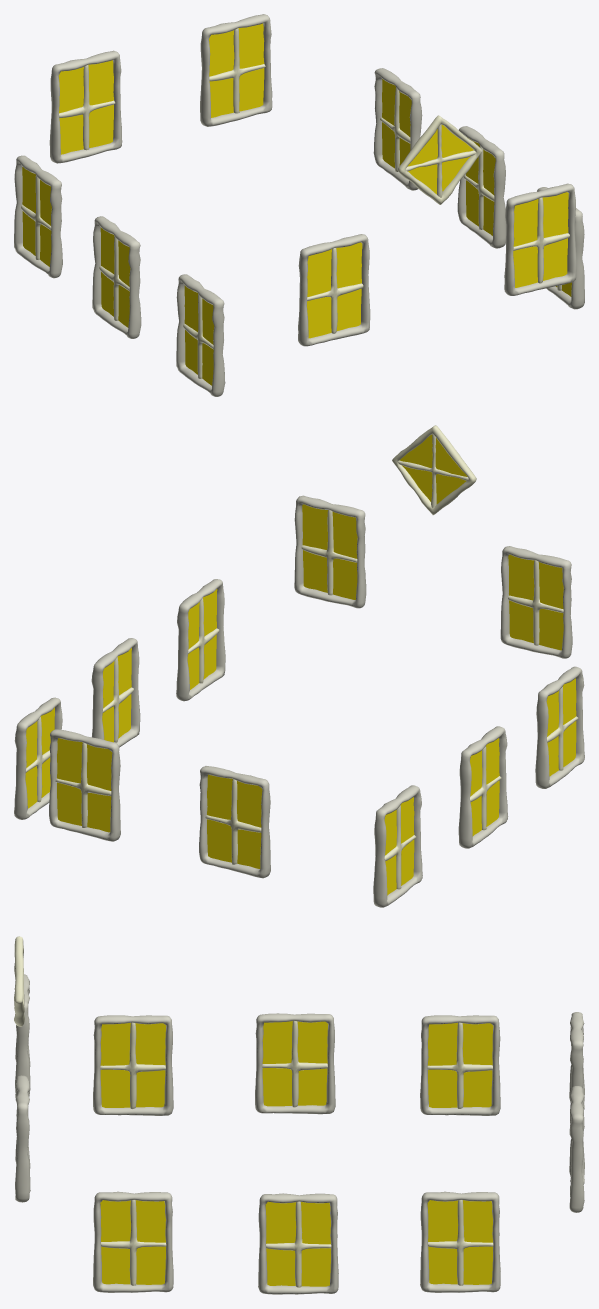
The model's file is Square_Windows.glb.
3 renders of one model, top to bottom at view 1: azimuth 30°, elevation 25°; view 2: azimuth 150°, elevation 25°; view 3: azimuth 270°, elevation 25°, orthographic.
Parts seen in each view (by area): view 1: Retopo_Square Window_01.009, Retopo_Square Window_01.008, Retopo_Square Window_01.001, Retopo_Square Window_01, Retopo_Square Window_01.003, Retopo_Square Window_01.002, Retopo_Square Window_01.004, Retopo_Square Window_01.006, Plane.004, Retopo_Square Window_01.005, Retopo_Square Window_01.007; view 2: Retopo_Square Window_01, Retopo_Square Window_01.001, Retopo_Square Window_01.008, Retopo_Square Window_01.009, Retopo_Square Window_01.004, Retopo_Square Window_01.003, Retopo_Square Window_01.002, Retopo_Square Window_01.007, Retopo_Square Window_01.006, Plane.004, Retopo_Square Window_01.005; view 3: Retopo_Square Window_01.006, Retopo_Square Window_01.007, Retopo_Square Window_01.005, Retopo_Square Window_01.004, Retopo_Square Window_01.003, Retopo_Square Window_01.002, Retopo_Square Window_01.009, Retopo_Square Window_01, Retopo_Square Window_01.008, Retopo_Square Window_01.001, Plane.004.
Boxes of the visible parts, x1=… form: Retopo_Square Window_01.009: x1=200, y1=14, x2=272, y2=126; Retopo_Square Window_01.008: x1=49, y1=50, x2=122, y2=163; Retopo_Square Window_01.001: x1=298, y1=234, x2=370, y2=346; Retopo_Square Window_01: x1=504, y1=183, x2=576, y2=295; Retopo_Square Window_01.003: x1=92, y1=216, x2=141, y2=338; Retopo_Square Window_01.002: x1=176, y1=274, x2=225, y2=396; Retopo_Square Window_01.004: x1=14, y1=155, x2=62, y2=278; Retopo_Square Window_01.006: x1=457, y1=126, x2=506, y2=248; Plane.004: x1=398, y1=115, x2=482, y2=204; Retopo_Square Window_01.005: x1=373, y1=68, x2=422, y2=190; Retopo_Square Window_01.007: x1=537, y1=187, x2=584, y2=309; Retopo_Square Window_01: x1=294, y1=495, x2=366, y2=608; Retopo_Square Window_01.001: x1=500, y1=546, x2=572, y2=658; Retopo_Square Window_01.008: x1=199, y1=766, x2=270, y2=878; Retopo_Square Window_01.009: x1=49, y1=729, x2=120, y2=841; Retopo_Square Window_01.004: x1=373, y1=785, x2=422, y2=907; Retopo_Square Window_01.003: x1=458, y1=726, x2=508, y2=848; Retopo_Square Window_01.002: x1=535, y1=666, x2=584, y2=788; Retopo_Square Window_01.007: x1=176, y1=579, x2=225, y2=701; Retopo_Square Window_01.006: x1=91, y1=638, x2=140, y2=747; Plane.004: x1=392, y1=425, x2=476, y2=515; Retopo_Square Window_01.005: x1=14, y1=697, x2=62, y2=819; Retopo_Square Window_01.006: x1=258, y1=1193, x2=338, y2=1294; Retopo_Square Window_01.007: x1=93, y1=1191, x2=173, y2=1292; Retopo_Square Window_01.005: x1=420, y1=1191, x2=500, y2=1292; Retopo_Square Window_01.004: x1=420, y1=1015, x2=500, y2=1115; Retopo_Square Window_01.003: x1=255, y1=1013, x2=335, y2=1114; Retopo_Square Window_01.002: x1=93, y1=1015, x2=173, y2=1115; Retopo_Square Window_01.009: x1=569, y1=1086, x2=584, y2=1212; Retopo_Square Window_01: x1=15, y1=1075, x2=30, y2=1202; Retopo_Square Window_01.008: x1=569, y1=1012, x2=584, y2=1136; Retopo_Square Window_01.001: x1=15, y1=974, x2=30, y2=1098; Plane.004: x1=14, y1=936, x2=24, y2=1026.
Bounding box in the file's own units: 0.0925 × 0.0619 × 0.1195.
